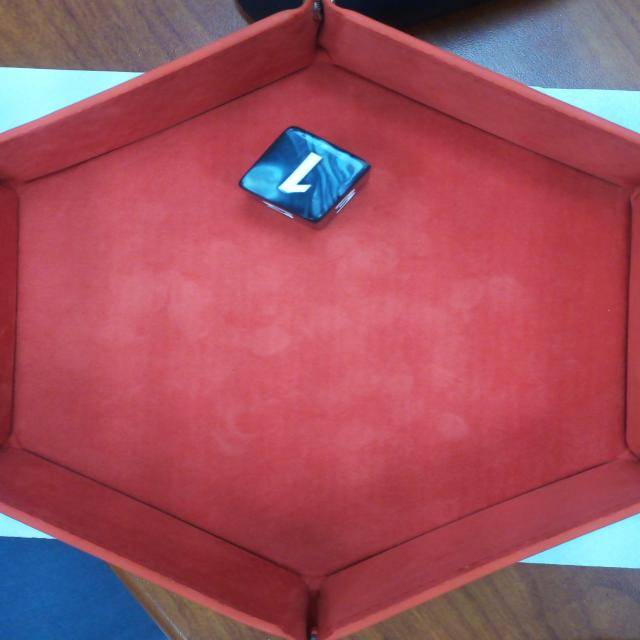dice: (239, 120, 371, 225)
